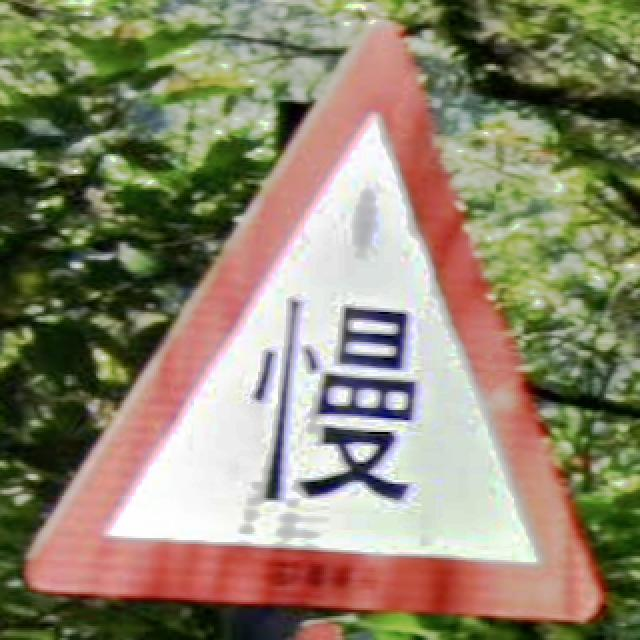slow: (25, 22, 606, 622)
